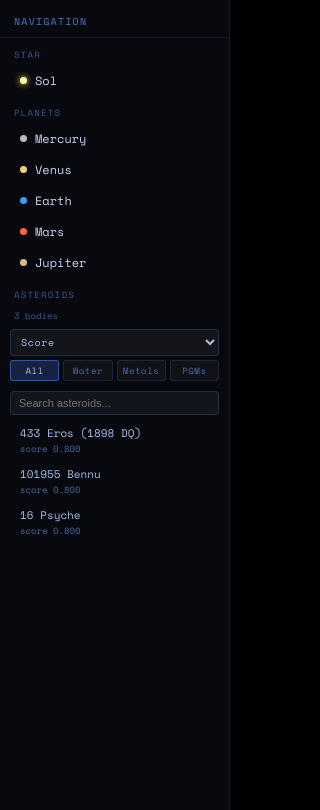
Test: NavigationSidebar › resource filter › PGMs filter shows only M-type asteroids
Step 1. Click the button "PGMs" → (194, 370), box [170,360,219,381]
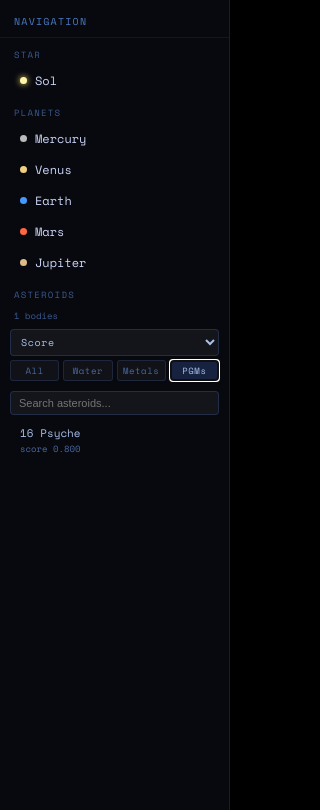
Expected: the text "16 Psyche" is shown, [20,425,81,441]
Result: the text "433 Eros" is gone
Result: the text "Bennu" is gone
